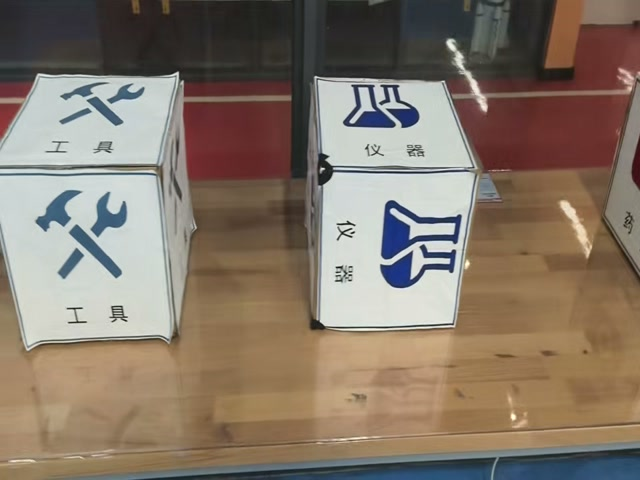Cube_ins: (313, 78, 480, 174)
Cube_tool: (0, 74, 182, 179)
